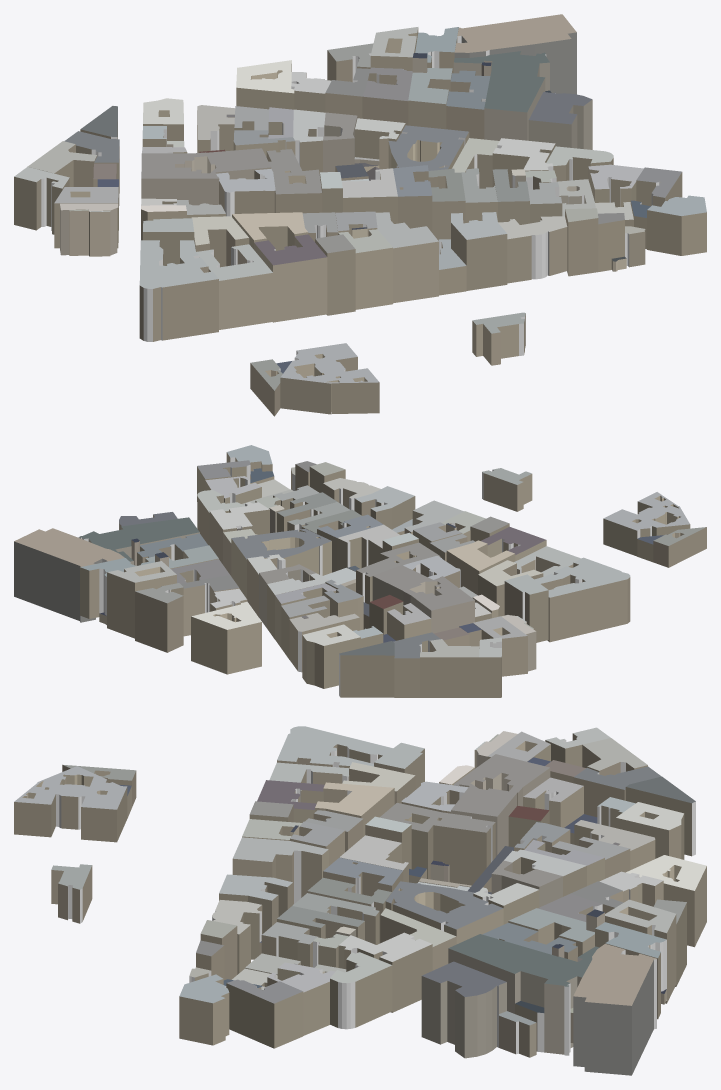
The picture shows the model from 3 angles, top to bottom: view 1: azimuth 30°, elevation 25°; view 2: azimuth 150°, elevation 25°; view 3: azimuth 270°, elevation 25°; orthographic projection. The views are drawn at different scales.
Parts seen in each view (by area): view 1: tuile; view 2: tuile; view 3: tuile.
Boxes of the visible parts, x1,y1,x2,y2 form: tuile: (14, 14, 706, 416); tuile: (14, 445, 706, 697); tuile: (14, 726, 706, 1075).
Size of the model in its own units: 290 by 39.93 by 285.
